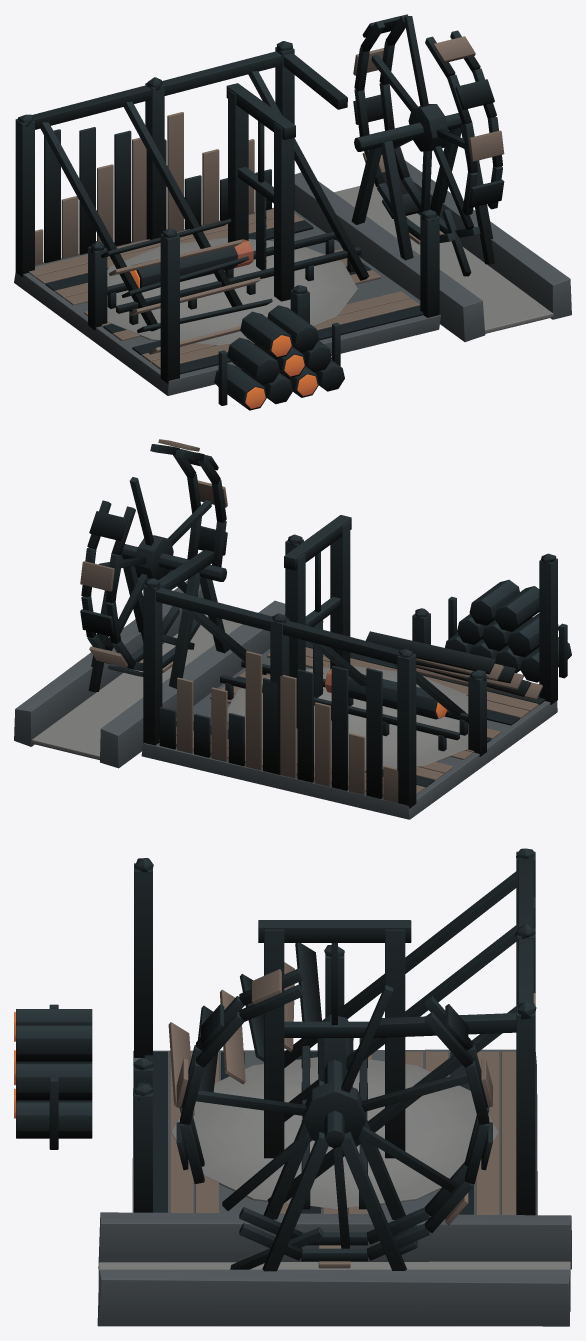
The model's file is burned_sawmill.glb.
3 views of the same model, one above another, from view 1: azimuth 30°, elevation 25°; view 2: azimuth 150°, elevation 25°; view 3: azimuth 270°, elevation 25° (orthographic). The views are drawn at different scales.
Parts seen in each view (by area): view 1: burned_sawmill; view 2: burned_sawmill; view 3: burned_sawmill.
Part boxes in pixels (x1,y1,x2,y2): burned_sawmill: (14, 14, 571, 410); burned_sawmill: (14, 439, 571, 819); burned_sawmill: (14, 848, 571, 1326).
Size of the model in its own units: 9.37 by 5.48 by 8.75.
Materials: 3 (3 with a texture image).
